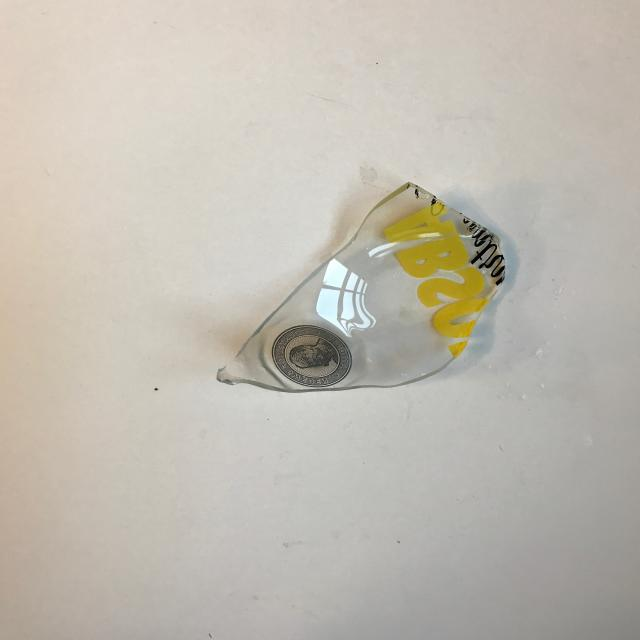glass: (216, 180, 507, 392)
